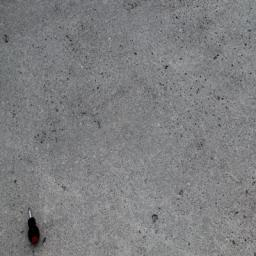FOD: (20, 203, 48, 254)
